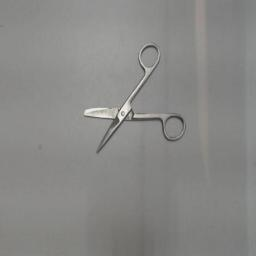Dressing Scissors: (80, 34, 190, 162)
